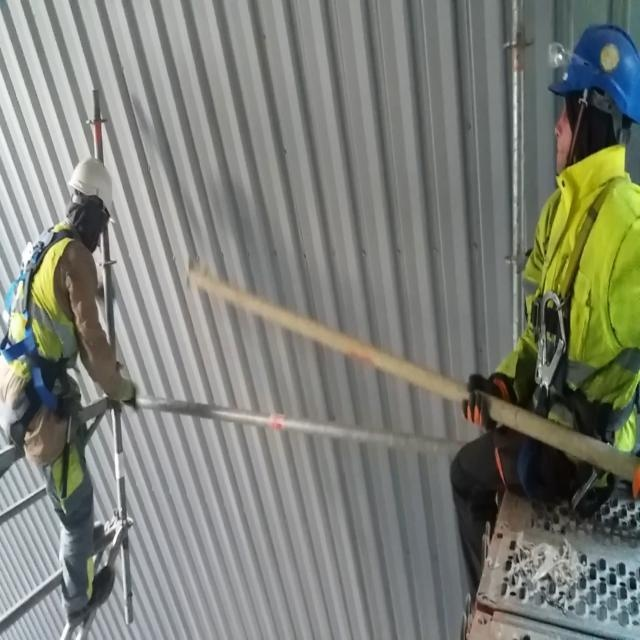Arnes_seguridad: (517, 165, 637, 480), (0, 207, 97, 466)
